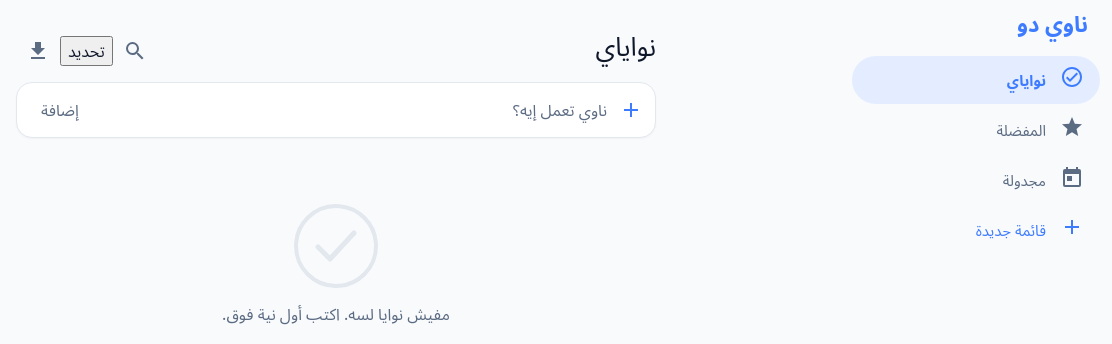
Test: stars › shows an honest empty state for favourites
The width and height of the screenshot is (1112, 344).
Check: the text "مفيش نوايا لسه. اكتب أول نية فوق." is shown, box [222,302,450,326]
Click the button "المفضلة" at [976, 130], box [852,106,1100,154]
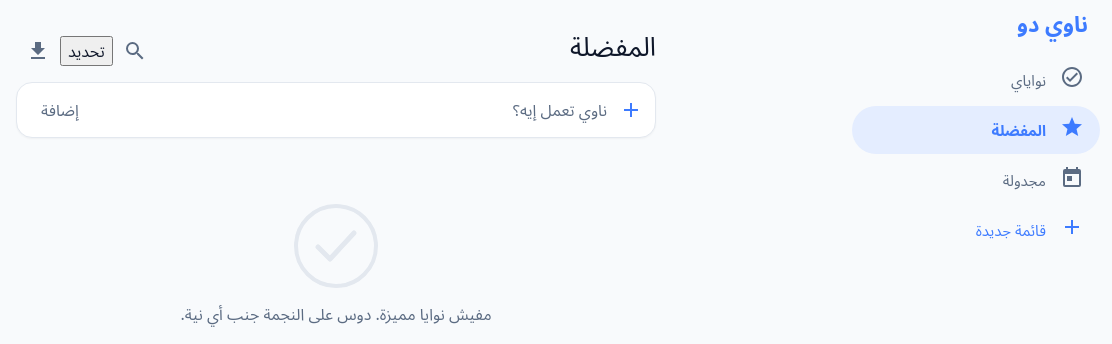
Check: the text "مفيش نوايا مميزة. دوس على النجمة جنب أي نية." is shown, box [180,302,492,326]
